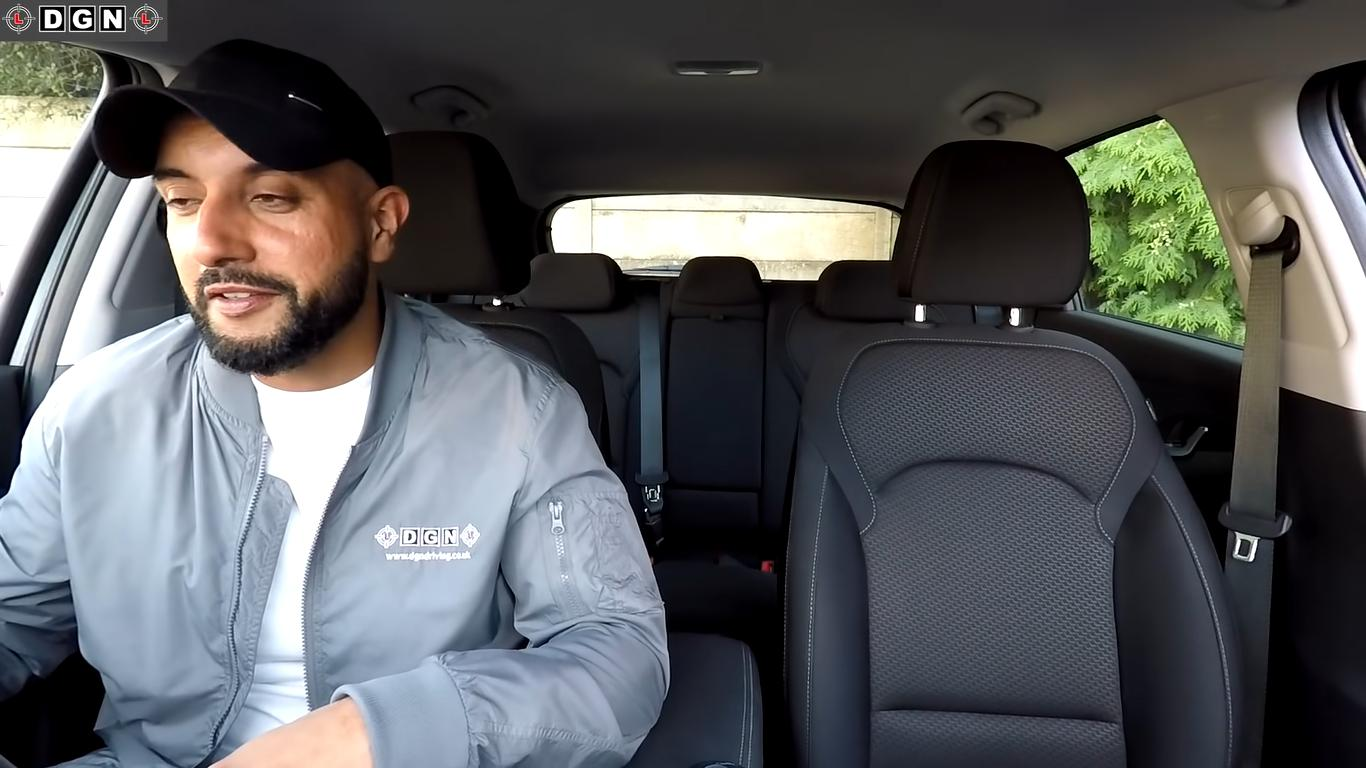no-seatbelt: (85, 367, 532, 768)
